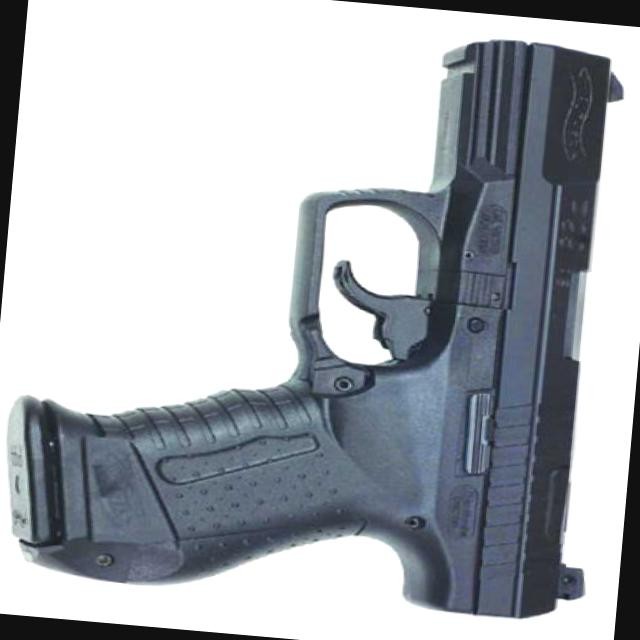handgun: (6, 2, 630, 626)
